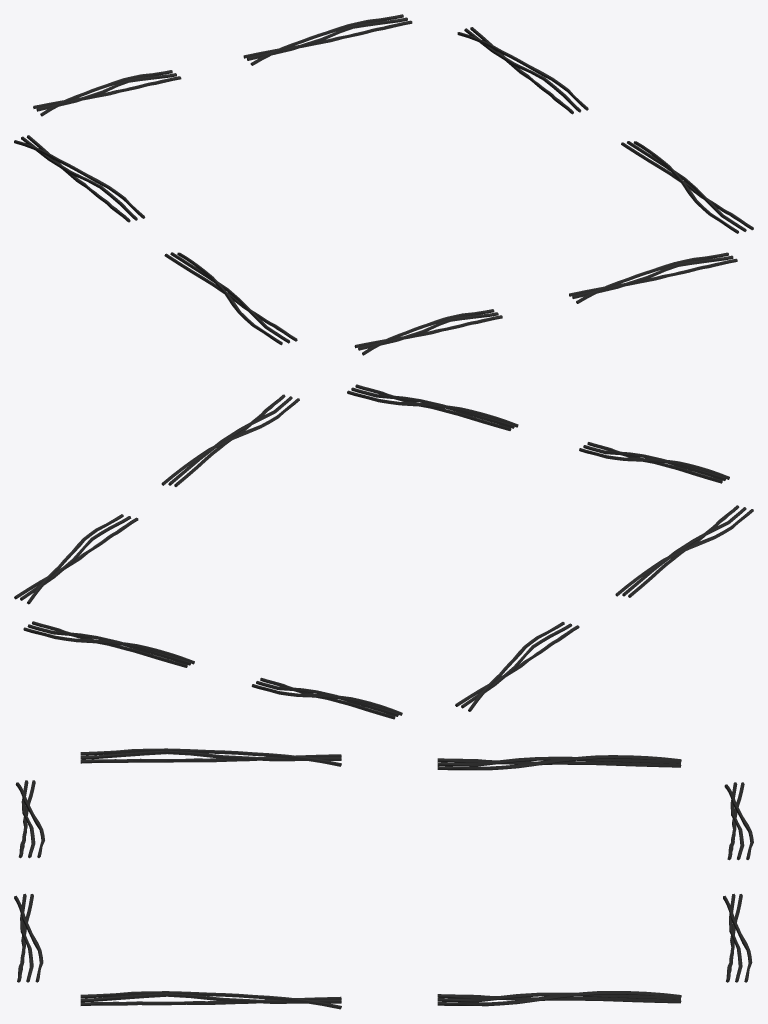
File: cavi.fbx
3 renders of one model, top to bottom at view 1: azimuth 30°, elevation 25°; view 2: azimuth 150°, elevation 25°; view 3: azimuth 270°, elevation 25°, orthographic. The views are drawn at different scales.
Parts seen in each view (by area): view 1: cavi; view 2: cavi; view 3: cavi.
Part boxes in pixels (x1=…): cavi: x1=14, y1=14, x2=753, y2=355; cavi: x1=14, y1=384, x2=753, y2=719; cavi: x1=14, y1=748, x2=753, y2=1009.
Bounding box in the file's own units: 16.57 × 0.3283 × 20.32.
